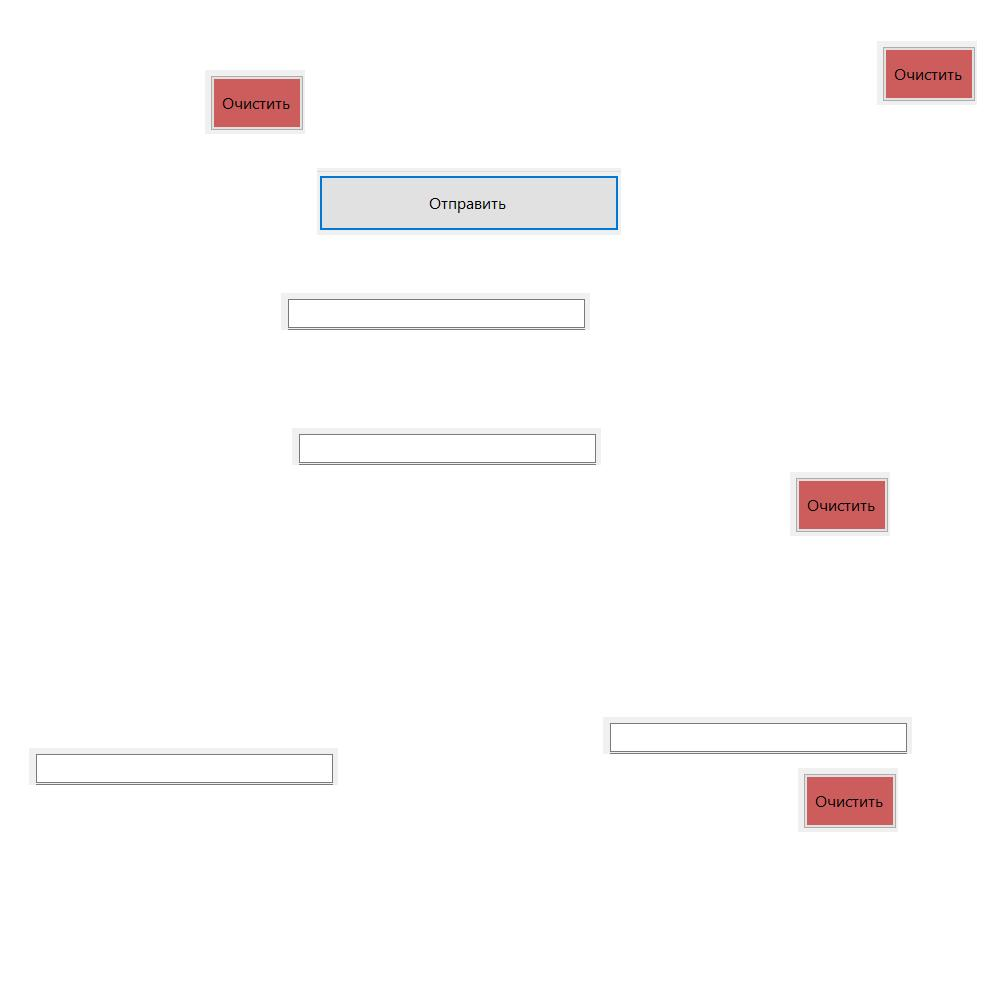Button: (317, 168, 621, 235), (205, 70, 305, 134), (790, 472, 890, 536), (877, 41, 977, 105), (798, 768, 898, 832)
EditText-: (29, 748, 338, 785), (603, 717, 912, 754), (292, 428, 601, 465), (281, 293, 590, 330)
